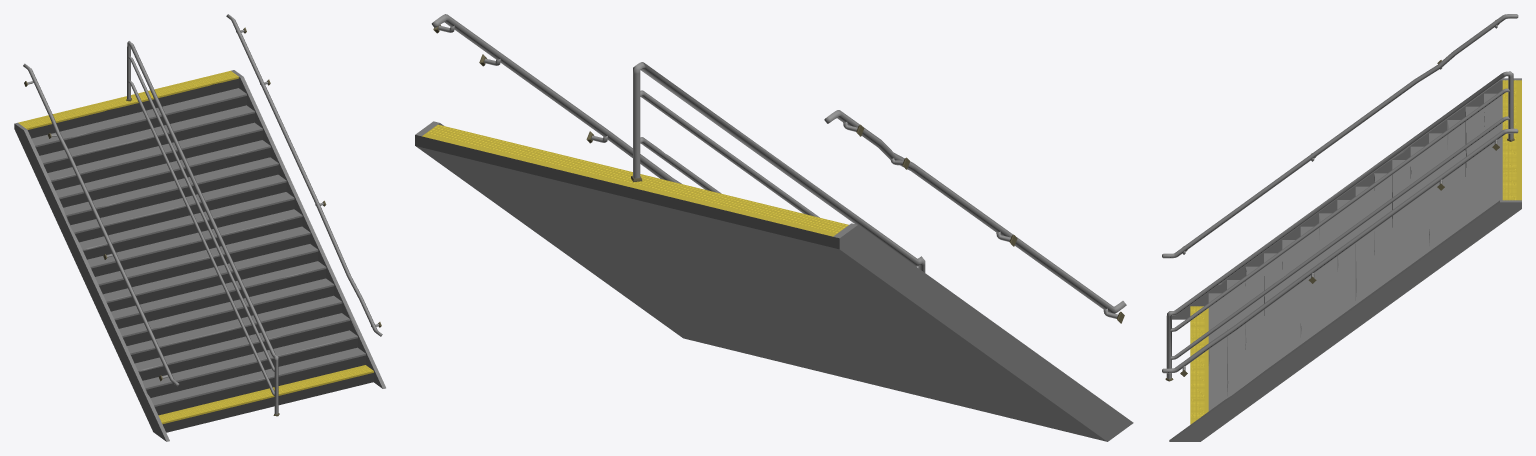
Rendered from SW_ENV_StationStair_Long_FF.fbx.
The picture shows the model from 3 angles, left to right: view 1: azimuth 30°, elevation 25°; view 2: azimuth 150°, elevation 25°; view 3: azimuth 270°, elevation 25°; orthographic projection. The views are drawn at different scales.
Visible parts, largest first — view 1: SW_ENV_StationStair_Long_FF; view 2: SW_ENV_StationStair_Long_FF; view 3: SW_ENV_StationStair_Long_FF.
Part boxes in pixels (x1,y1,x2,y2): SW_ENV_StationStair_Long_FF: (14, 14, 385, 441); SW_ENV_StationStair_Long_FF: (415, 14, 1133, 441); SW_ENV_StationStair_Long_FF: (1162, 14, 1521, 441).
Bounding box in the file's own units: 4 × 4.64 × 4.9.
